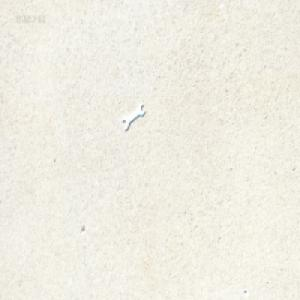Wrench: (125, 101, 147, 130)
